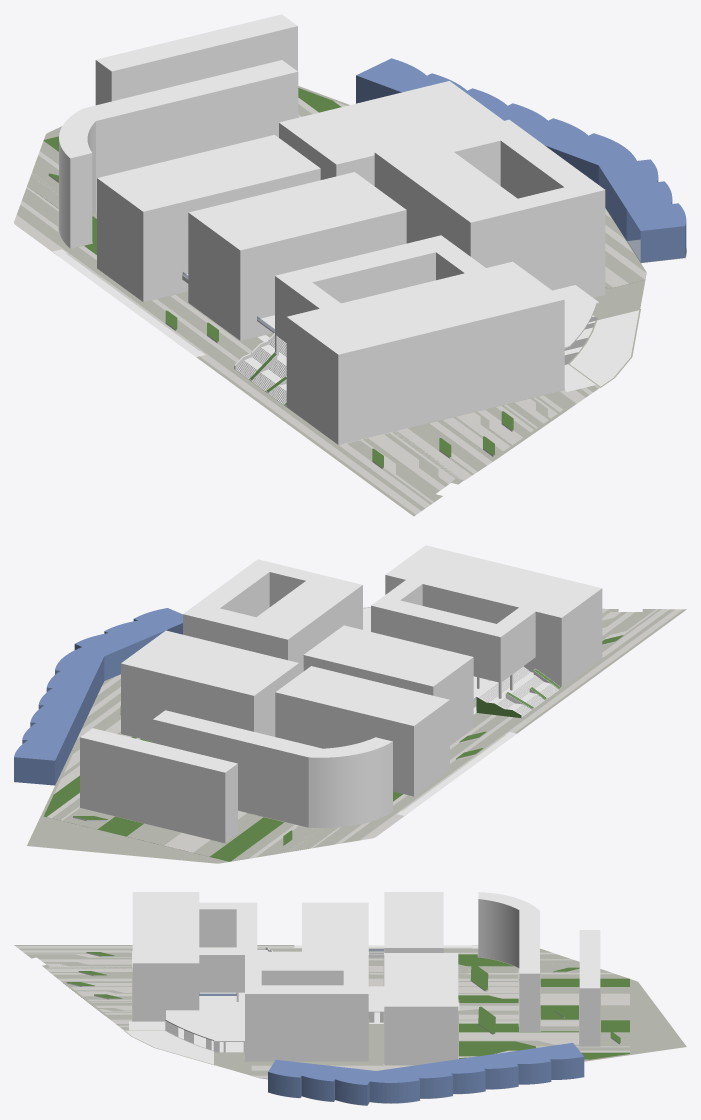
The picture shows the model from 3 angles, top to bottom: view 1: azimuth 30°, elevation 25°; view 2: azimuth 150°, elevation 25°; view 3: azimuth 270°, elevation 25°; orthographic projection. The views are drawn at different scales.
Visible parts, largest first — view 1: Mesh119 ___dwg_5_1 Model, Mesh31 Group35 Group28 Group6 Model, Mesh12 Group14 Group7 Group6 Model, Mesh63 Group68 Group62 Group6 Model, Mesh24 Group27 Group15 Group6 Model, Mesh92 Group94 Model, Mesh73 Group79 Group73 Group6 Model, Mesh80 Group86 Group6 Model, Mesh30 Group34 Group28 Group6 Model, Mesh79 Group85 Group6 Model, Mesh95 _2__dwg1 Model, Mesh26 Group29 Group28 Group6 Model (+25 smaller); view 2: Mesh119 ___dwg_5_1 Model, Mesh31 Group35 Group28 Group6 Model, Mesh12 Group14 Group7 Group6 Model, Mesh73 Group79 Group73 Group6 Model, Mesh92 Group94 Model, Mesh24 Group27 Group15 Group6 Model, Mesh63 Group68 Group62 Group6 Model, Mesh80 Group86 Group6 Model, Mesh30 Group34 Group28 Group6 Model, Mesh79 Group85 Group6 Model, Mesh91 ___23_1 Group94 Model, Mesh5 Group5 Model (+26 smaller); view 3: Mesh119 ___dwg_5_1 Model, Mesh92 Group94 Model, Mesh31 Group35 Group28 Group6 Model, Mesh12 Group14 Group7 Group6 Model, Mesh73 Group79 Group73 Group6 Model, Mesh24 Group27 Group15 Group6 Model, Mesh63 Group68 Group62 Group6 Model, Mesh106 ___dwg_1_1 Model, Mesh80 Group86 Group6 Model, Mesh91 ___23_1 Group94 Model, Mesh95 _2__dwg1 Model, Mesh11 Group13 Group7 Group6 Model (+23 smaller).
Part boxes in pixels (x1=…): Mesh119 ___dwg_5_1 Model: x1=14, y1=86, x2=686, y2=516; Mesh31 Group35 Group28 Group6 Model: x1=275, y1=235, x2=564, y2=369; Mesh12 Group14 Group7 Group6 Model: x1=374, y1=119, x2=605, y2=237; Mesh63 Group68 Group62 Group6 Model: x1=188, y1=172, x2=406, y2=264; Mesh24 Group27 Group15 Group6 Model: x1=97, y1=135, x2=320, y2=226; Mesh92 Group94 Model: x1=465, y1=88, x2=686, y2=262; Mesh73 Group79 Group73 Group6 Model: x1=279, y1=81, x2=503, y2=176; Mesh80 Group86 Group6 Model: x1=59, y1=60, x2=298, y2=172; Mesh30 Group34 Group28 Group6 Model: x1=275, y1=267, x2=564, y2=383; Mesh79 Group85 Group6 Model: x1=95, y1=14, x2=297, y2=85; Mesh95 _2__dwg1 Model: x1=16, y1=225, x2=639, y2=516; Mesh26 Group29 Group28 Group6 Model: x1=286, y1=372, x2=564, y2=444; Mesh119 ___dwg_5_1 Model: x1=27, y1=607, x2=686, y2=863; Mesh31 Group35 Group28 Group6 Model: x1=371, y1=545, x2=602, y2=648; Mesh12 Group14 Group7 Group6 Model: x1=183, y1=559, x2=362, y2=650; Mesh73 Group79 Group73 Group6 Model: x1=121, y1=630, x2=298, y2=707; Mesh92 Group94 Model: x1=30, y1=608, x2=182, y2=749; Mesh24 Group27 Group15 Group6 Model: x1=275, y1=666, x2=449, y2=737; Mesh63 Group68 Group62 Group6 Model: x1=303, y1=625, x2=473, y2=696; Mesh80 Group86 Group6 Model: x1=152, y1=710, x2=392, y2=768; Mesh30 Group34 Group28 Group6 Model: x1=371, y1=586, x2=602, y2=659; Mesh79 Group85 Group6 Model: x1=80, y1=728, x2=237, y2=783; Mesh91 ___23_1 Group94 Model: x1=14, y1=723, x2=71, y2=785; Mesh5 Group5 Model: x1=152, y1=731, x2=392, y2=780; Mesh119 ___dwg_5_1 Model: x1=14, y1=945, x2=686, y2=1105; Mesh92 Group94 Model: x1=268, y1=1052, x2=518, y2=1105; Mesh31 Group35 Group28 Group6 Model: x1=132, y1=892, x2=257, y2=972; Mesh12 Group14 Group7 Group6 Model: x1=245, y1=951, x2=368, y2=1003; Mesh73 Group79 Group73 Group6 Model: x1=384, y1=953, x2=458, y2=1015; Mesh24 Group27 Group15 Group6 Model: x1=384, y1=892, x2=443, y2=952; Mesh63 Group68 Group62 Group6 Model: x1=302, y1=902, x2=368, y2=951; Mesh106 ___dwg_1_1 Model: x1=165, y1=986, x2=384, y2=1041; Mesh80 Group86 Group6 Model: x1=478, y1=892, x2=539, y2=983; Mesh91 ___23_1 Group94 Model: x1=507, y1=1043, x2=584, y2=1084; Mesh95 _2__dwg1 Model: x1=32, y1=945, x2=683, y2=1079; Mesh11 Group13 Group7 Group6 Model: x1=245, y1=980, x2=368, y2=1012.
Bounding box in the file's own units: 1127 × 221 × 1992.
